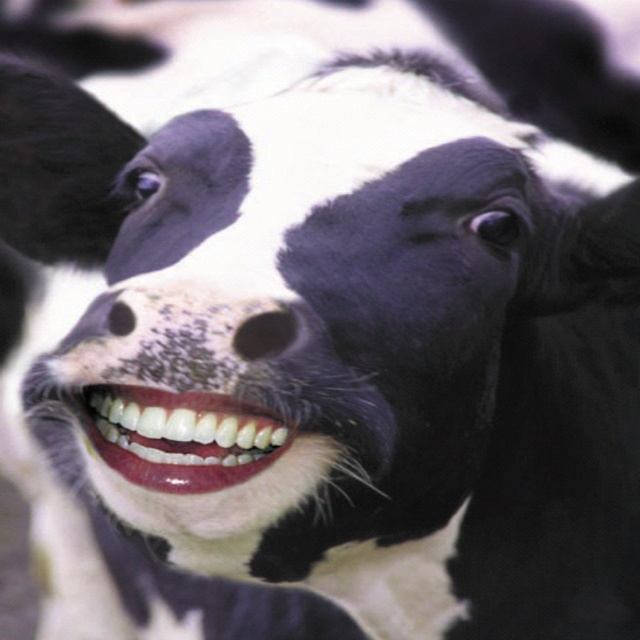Cattle: (17, 97, 620, 640)
